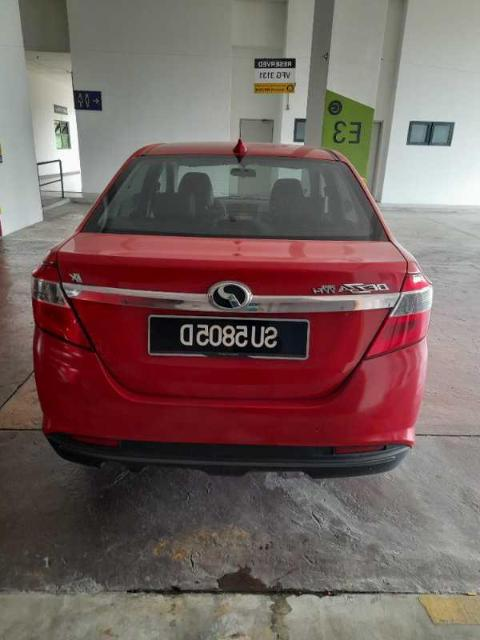License_Plate: (147, 315, 311, 361)
car: (31, 139, 435, 479)
